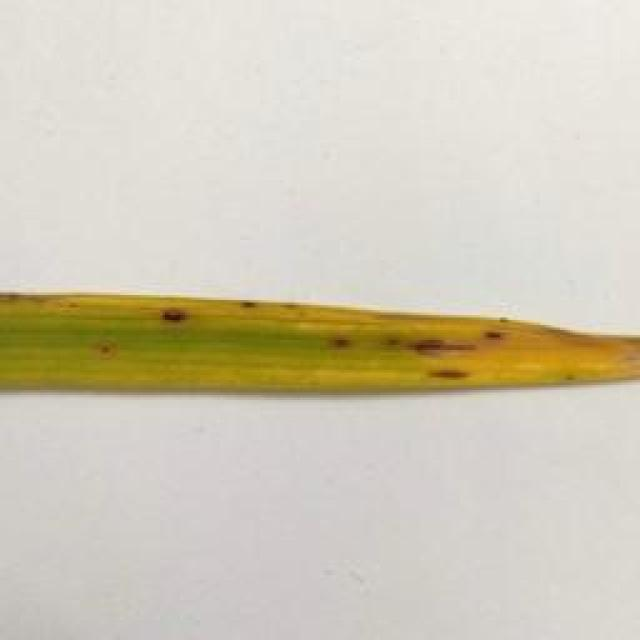Brown_Spot: (371, 329, 468, 362), (144, 292, 204, 343), (403, 355, 486, 387), (320, 328, 364, 358), (74, 334, 120, 360), (0, 276, 34, 307), (478, 311, 500, 354), (238, 286, 260, 313)
